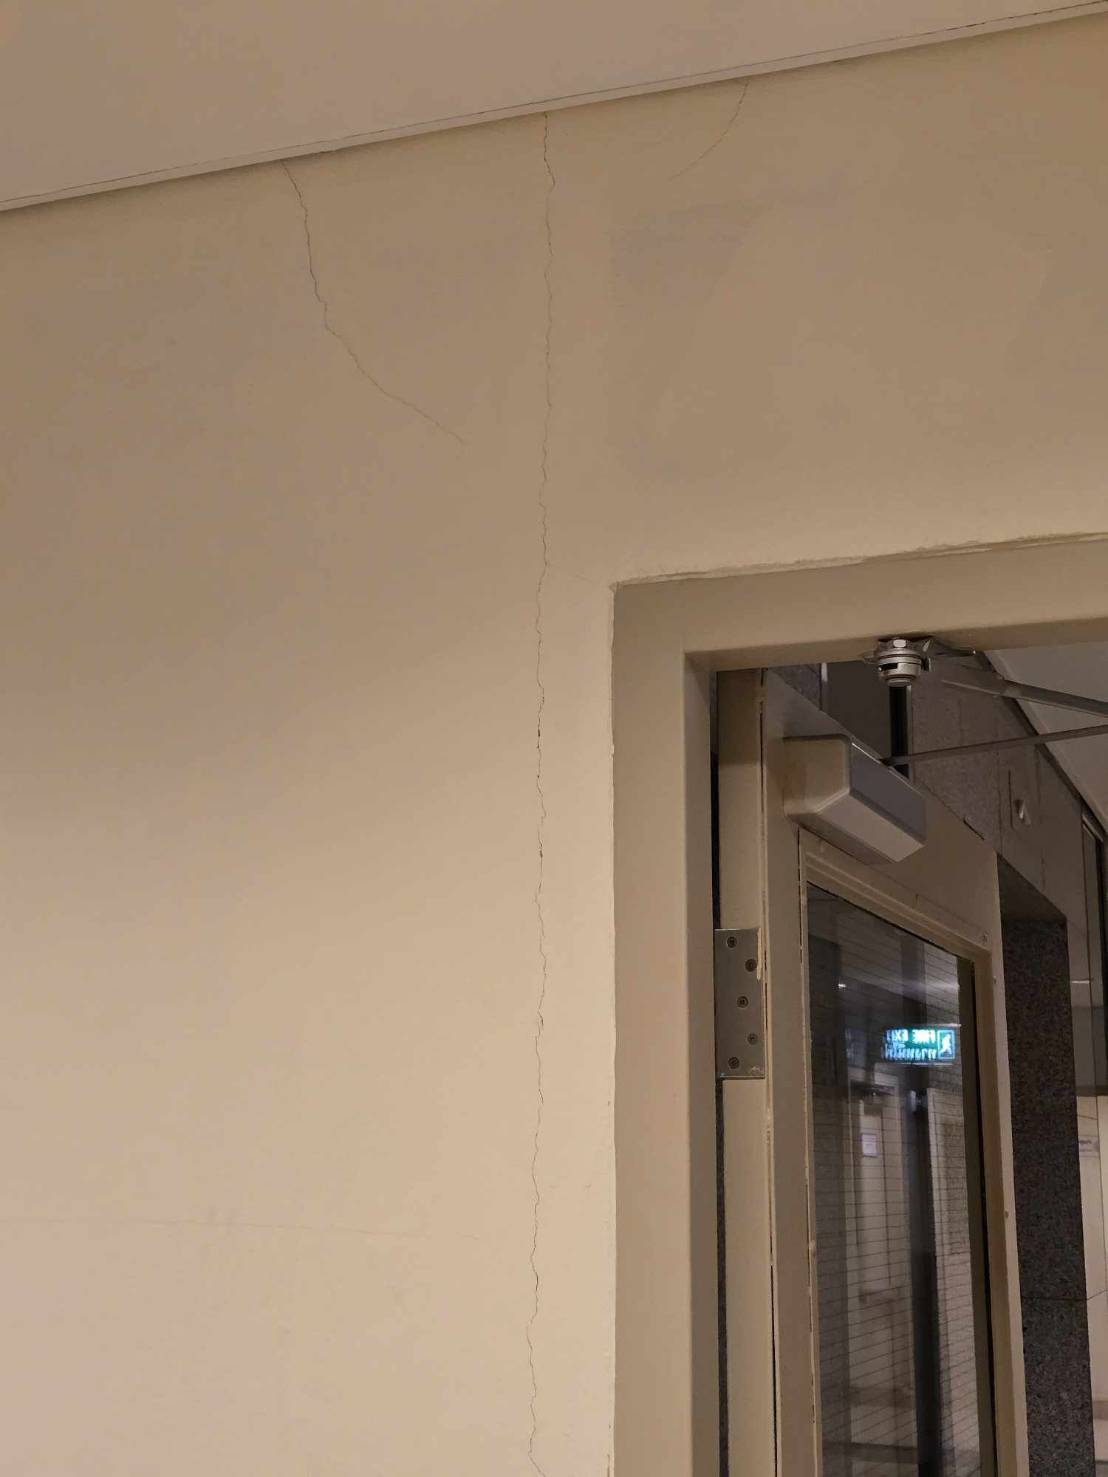Low: (477, 88, 601, 1477)
